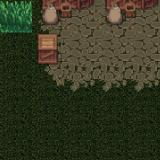Hide: (25, 27, 70, 74)
Obstacle: (32, 0, 98, 32), (98, 0, 160, 32)
Slow: (0, 0, 32, 33)
